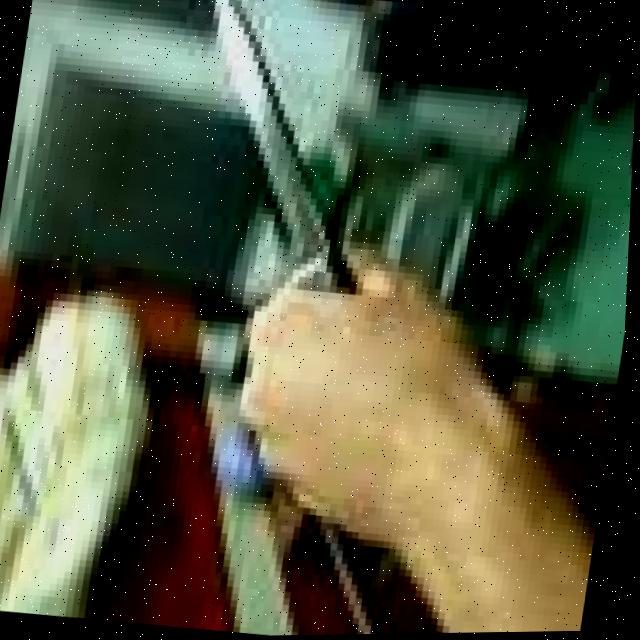knife: (163, 0, 379, 295)
